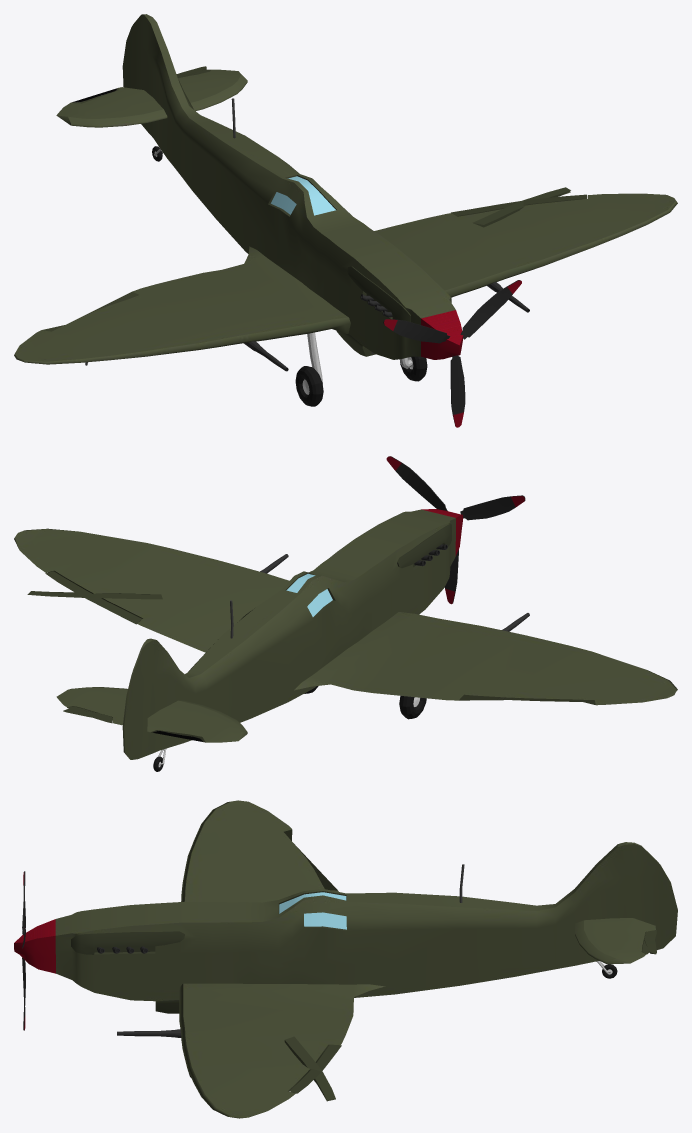
Rendered from aviao.glb.
3 views of the same model, one above another, from view 1: azimuth 30°, elevation 25°; view 2: azimuth 150°, elevation 25°; view 3: azimuth 270°, elevation 25° (orthographic).
Parts seen in each view (by area): view 1: Plane; view 2: Plane; view 3: Plane.
Part boxes in pixels (x1,y1,x2,y2): Plane: (14,14,677,427); Plane: (14,456,677,771); Plane: (14,800,677,1118).
Bounding box in the file's own units: 0.078 × 0.025 × 0.0691.
Materials: 8 (4 with a texture image).
